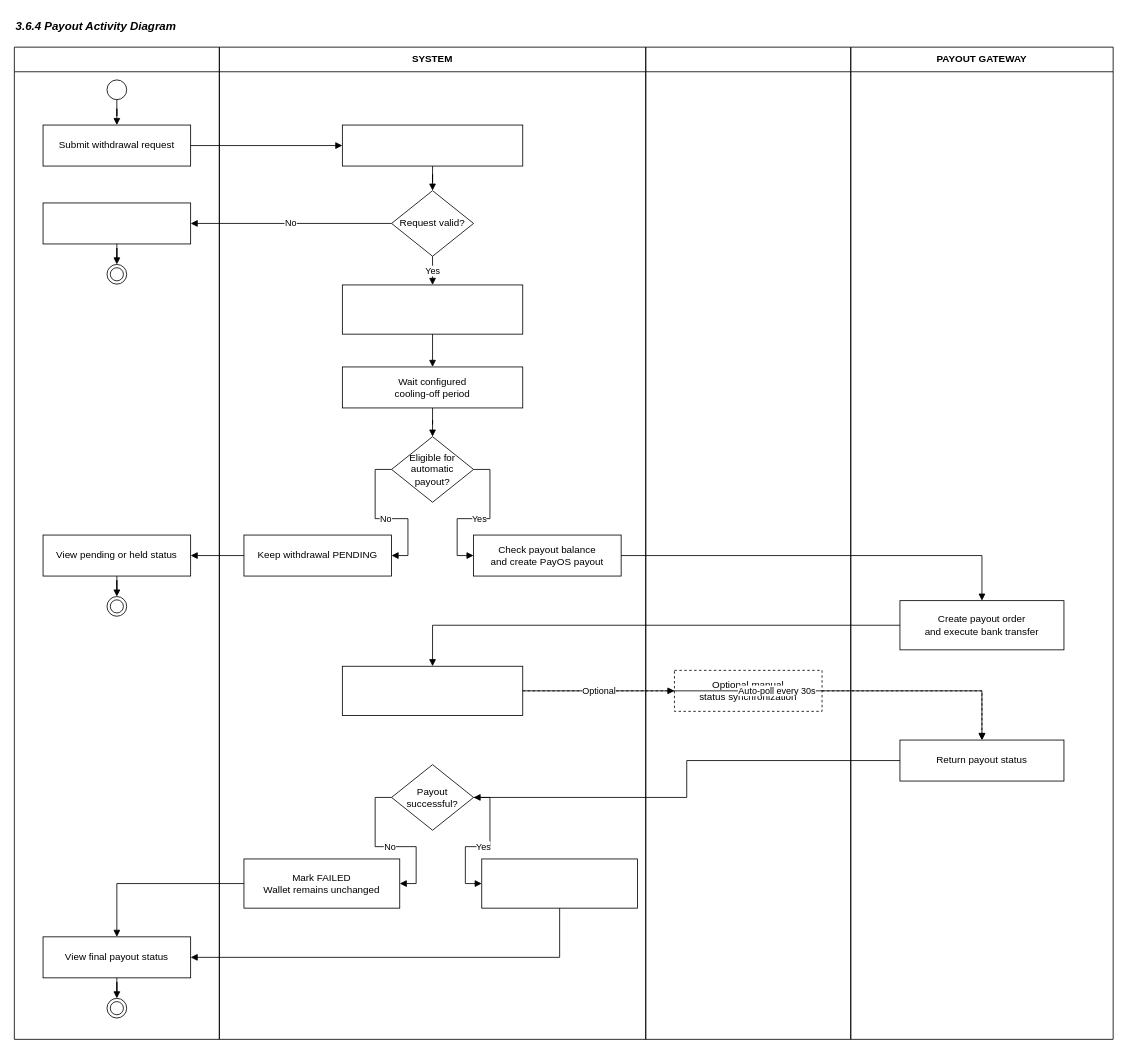
Some shapes in this 1128 by 1054 pixel diagram are drawn without their labels. The shapes that lost their labels are listed below. From the top down, each one's box as (x1, y1, x2, y2) in pixels, then its label:
(342, 124, 523, 166): Validate amount, bank details, and withdrawable balance
(42, 202, 191, 244): Display validation error
(342, 284, 523, 334): Create PENDING withdrawal and reserve withdrawable funds
(14, 46, 219, 1039): DEVELOPER
(645, 46, 851, 1039): ADMIN
(342, 665, 523, 715): Save payout ID and mark withdrawal PROCESSING
(481, 858, 638, 908): Debit wallet, create Transaction, and mark COMPLETED
